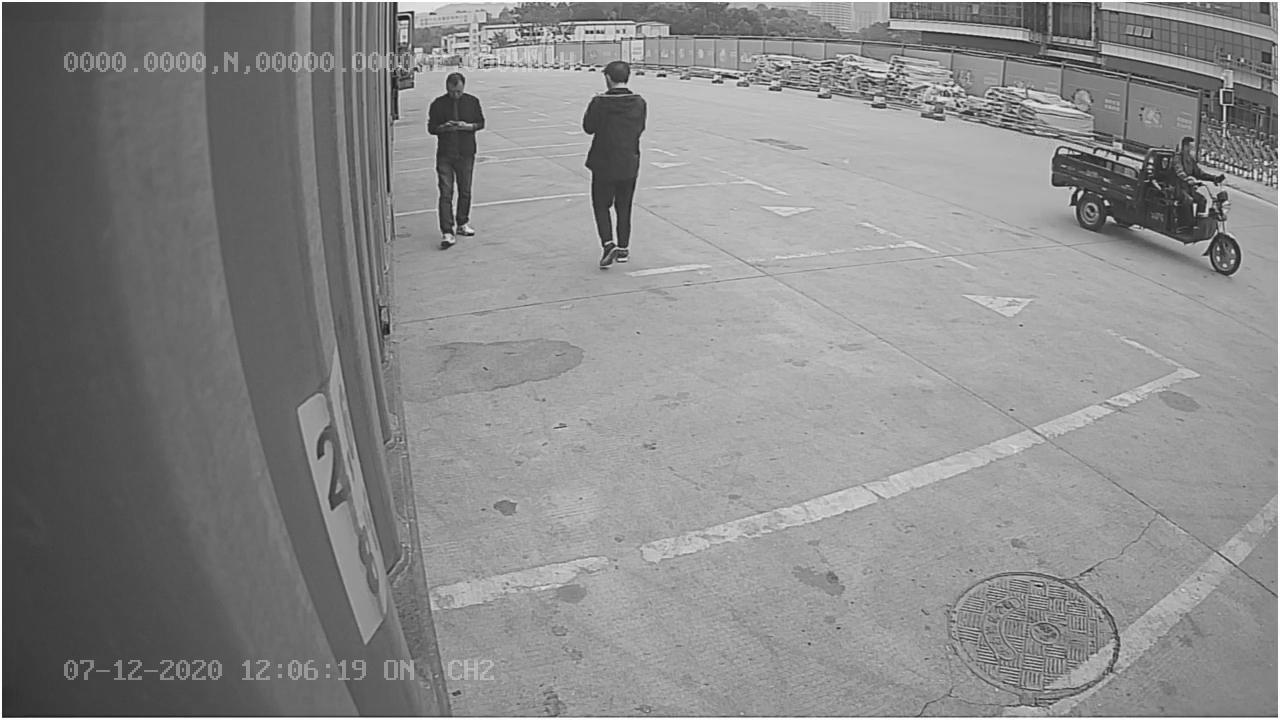person: (580, 60, 648, 269)
